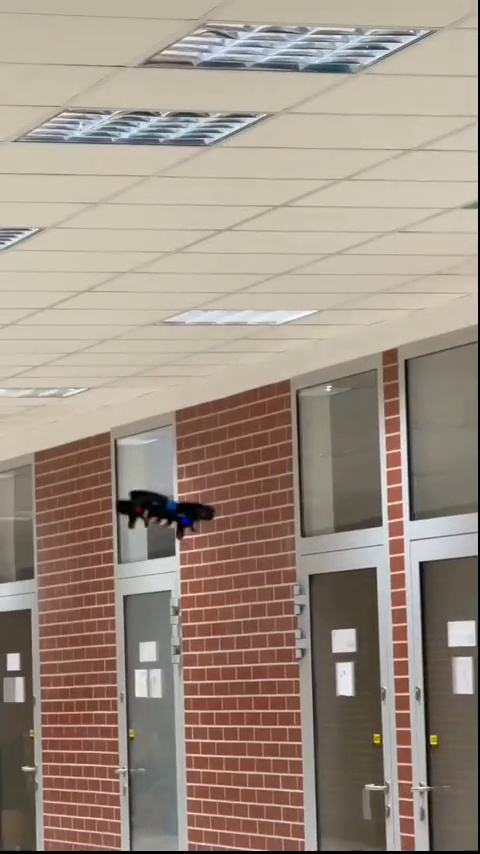drone: (115, 487, 206, 534)
